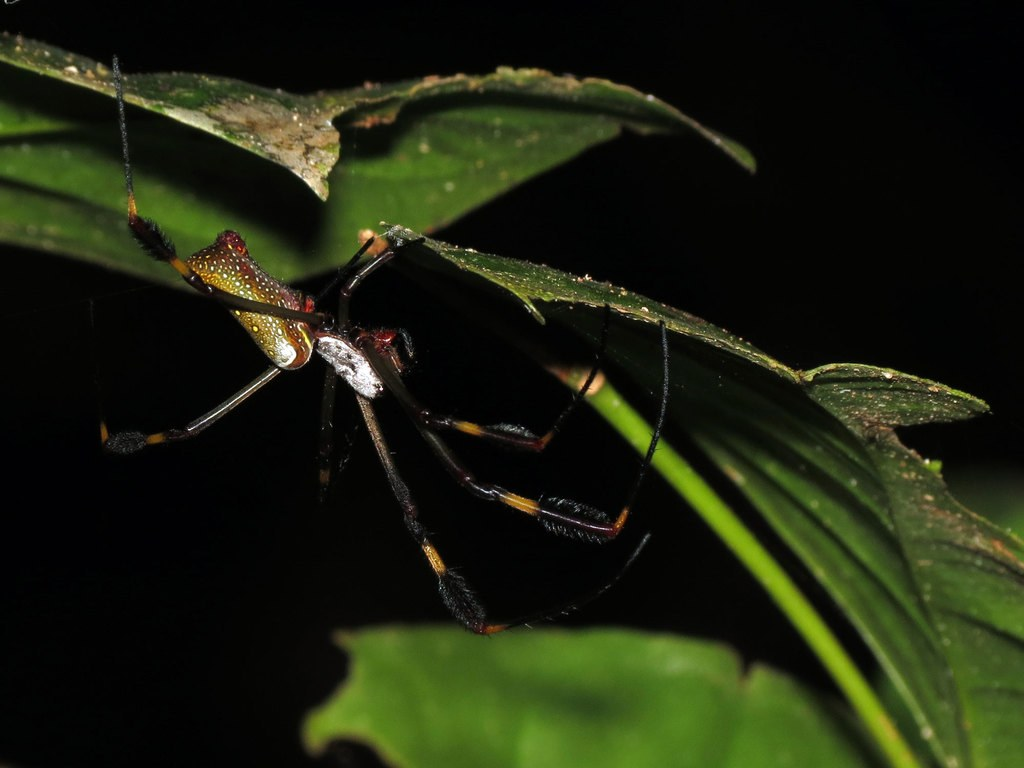insect: (0, 0, 1023, 767), (7, 17, 658, 636), (102, 56, 673, 634), (303, 624, 870, 767)
